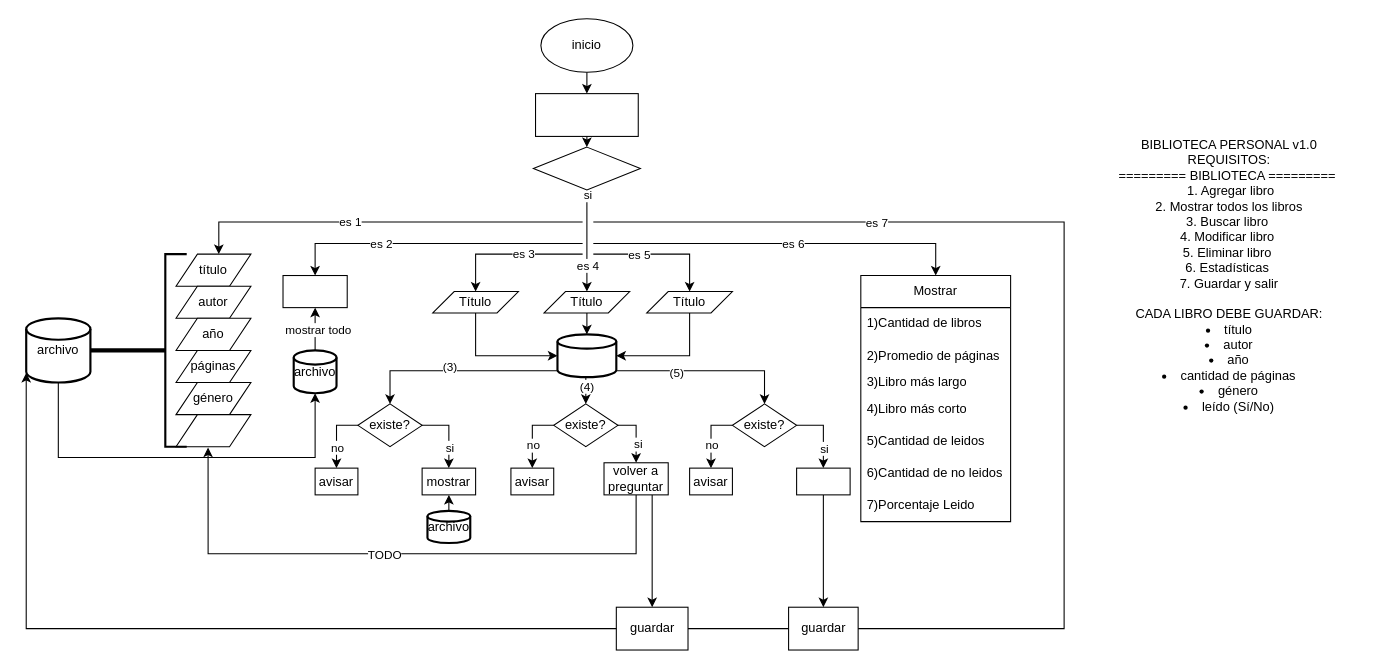
Some shapes in this 1381 by 669 pixel diagram are drawn without their labels. Each missing label, with the box of its shape:
eliminar: (796, 467, 850, 495)
leído: (175, 414, 251, 447)
mostrar libros: (282, 274, 347, 308)
MOSTRAR MENÚ: (534, 93, 638, 136)
números (1-7): (532, 146, 640, 190)
recorrer: (556, 333, 617, 378)
